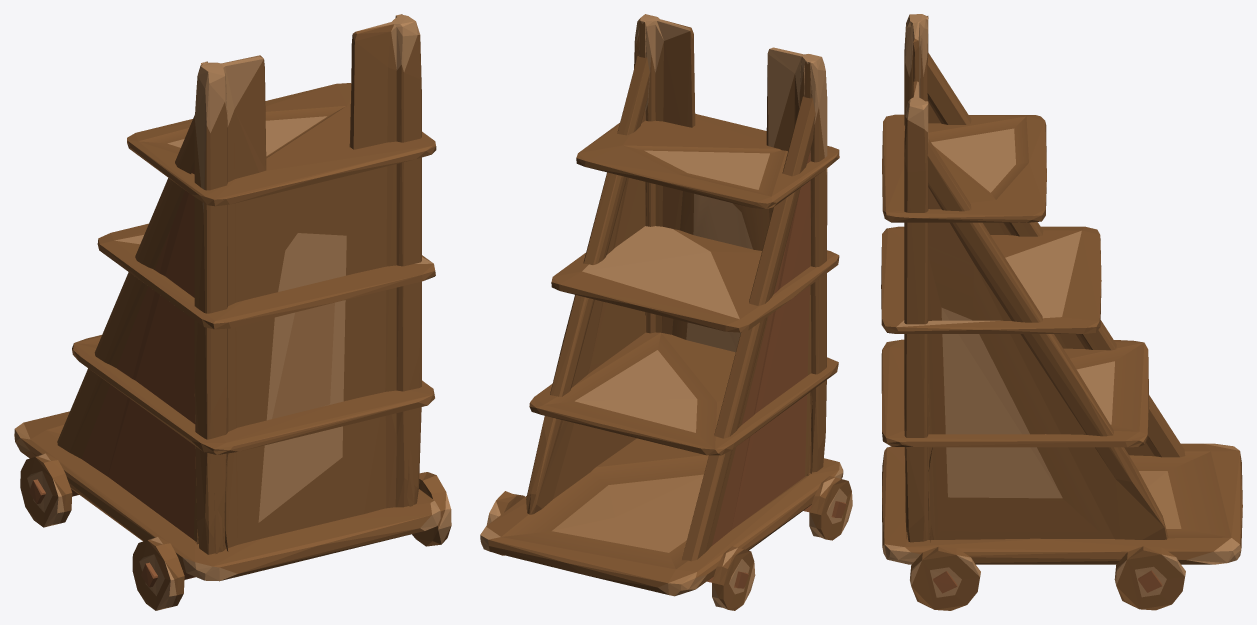
File: LPSWP_Belfry03.fbx
3 views of the same model, side by side, from view 1: azimuth 30°, elevation 25°; view 2: azimuth 150°, elevation 25°; view 3: azimuth 270°, elevation 25° (orthographic). The views are drawn at different scales.
Visible parts, largest first — view 1: LPSWP_Belfry03, LPSWP_Belfry03_ForwardWheel, LPSWP_Belfry03_BackwardWheel; view 2: LPSWP_Belfry03, LPSWP_Belfry03_BackwardWheel, LPSWP_Belfry03_ForwardWheel; view 3: LPSWP_Belfry03, LPSWP_Belfry03_ForwardWheel, LPSWP_Belfry03_BackwardWheel.
Boxes of the visible parts, bbox=[...] form: LPSWP_Belfry03: bbox=[14, 14, 440, 581]; LPSWP_Belfry03_ForwardWheel: bbox=[132, 472, 451, 610]; LPSWP_Belfry03_BackwardWheel: bbox=[20, 453, 78, 527]; LPSWP_Belfry03: bbox=[480, 14, 843, 596]; LPSWP_Belfry03_BackwardWheel: bbox=[486, 491, 755, 610]; LPSWP_Belfry03_ForwardWheel: bbox=[803, 476, 852, 540]; LPSWP_Belfry03: bbox=[881, 14, 1242, 564]; LPSWP_Belfry03_ForwardWheel: bbox=[910, 546, 980, 610]; LPSWP_Belfry03_BackwardWheel: bbox=[1114, 546, 1185, 610].
Size of the model in its own units: 3.33 by 5.92 by 3.97.
